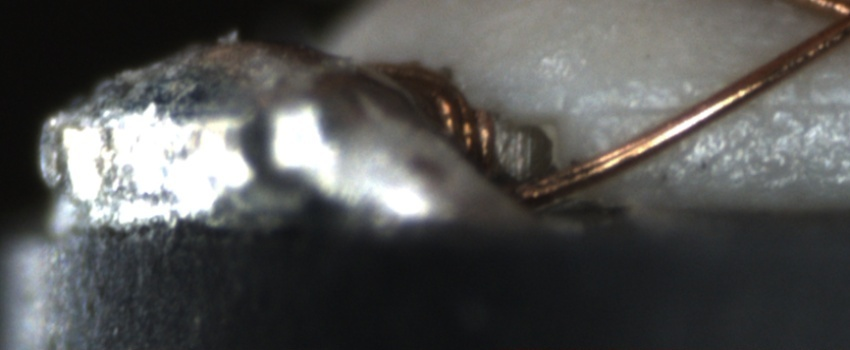CL: (809, 0, 849, 46)
DL: (592, 72, 849, 136)
TE: (424, 65, 500, 170)
